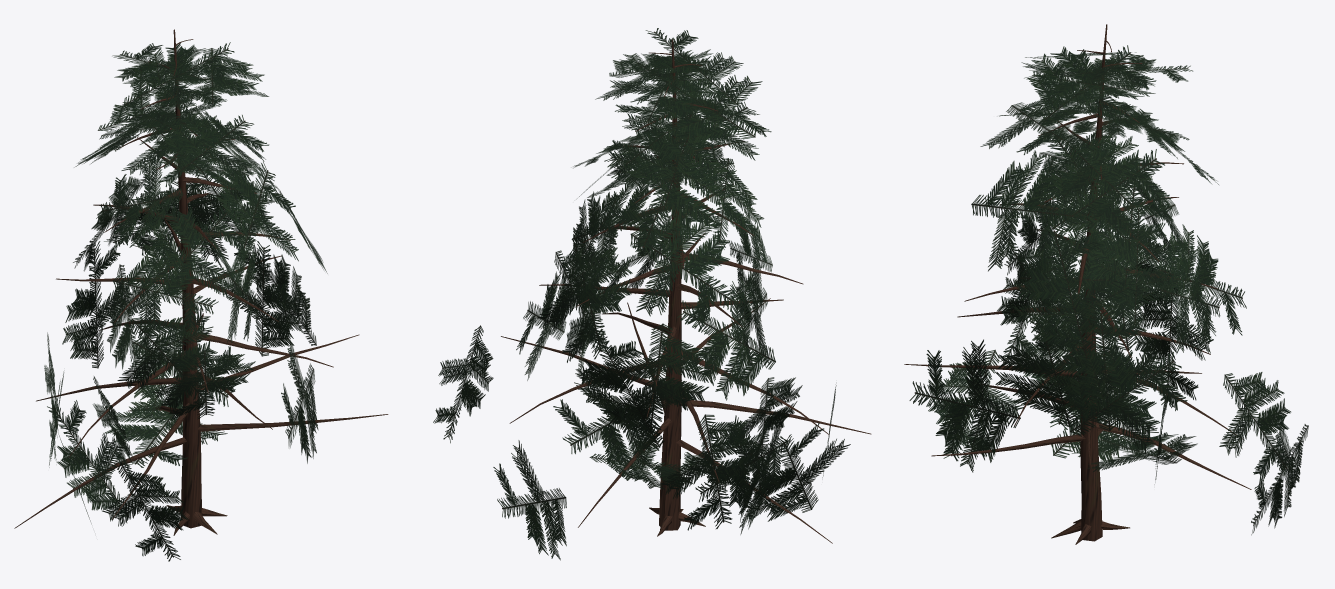
The model's file is DarkPine_2_LOD2.gltf.
3 renders of one model, left to right at view 1: azimuth 30°, elevation 25°; view 2: azimuth 150°, elevation 25°; view 3: azimuth 270°, elevation 25°, orthographic. The views are drawn at different scales.
Visible parts, largest first — view 1: DarkPine_2_LOD2; view 2: DarkPine_2_LOD2; view 3: DarkPine_2_LOD2.
Boxes of the visible parts, <box> form: DarkPine_2_LOD2: <box>14,29,388,561</box>; DarkPine_2_LOD2: <box>433,28,871,560</box>; DarkPine_2_LOD2: <box>904,24,1308,544</box>.
Size of the model in its own units: 12.14 by 17.15 by 12.62.
Materials: 2 (2 with a texture image).
